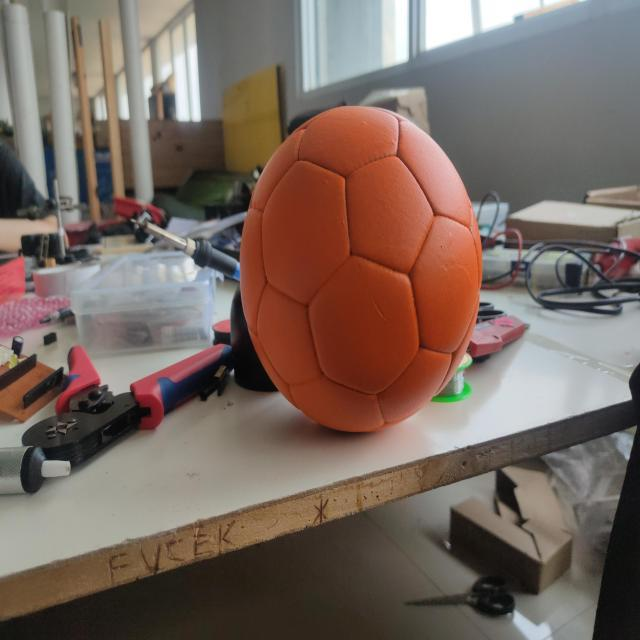bola: (223, 93, 483, 434)
